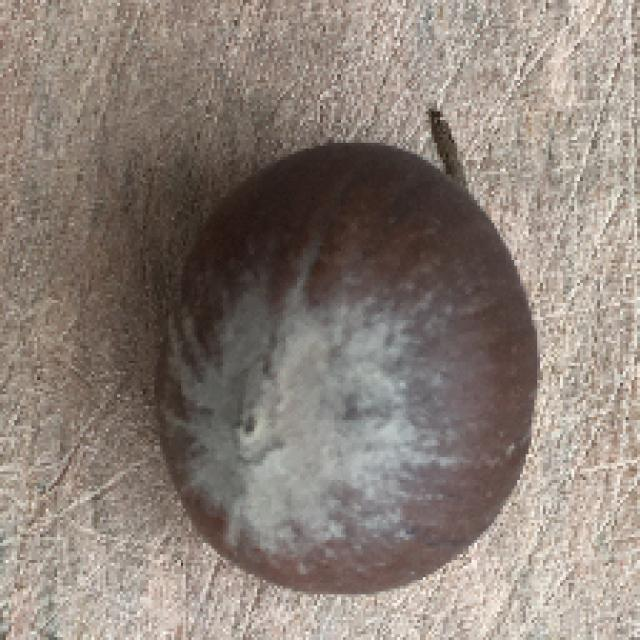damagedHazelnut: (145, 148, 530, 592)
